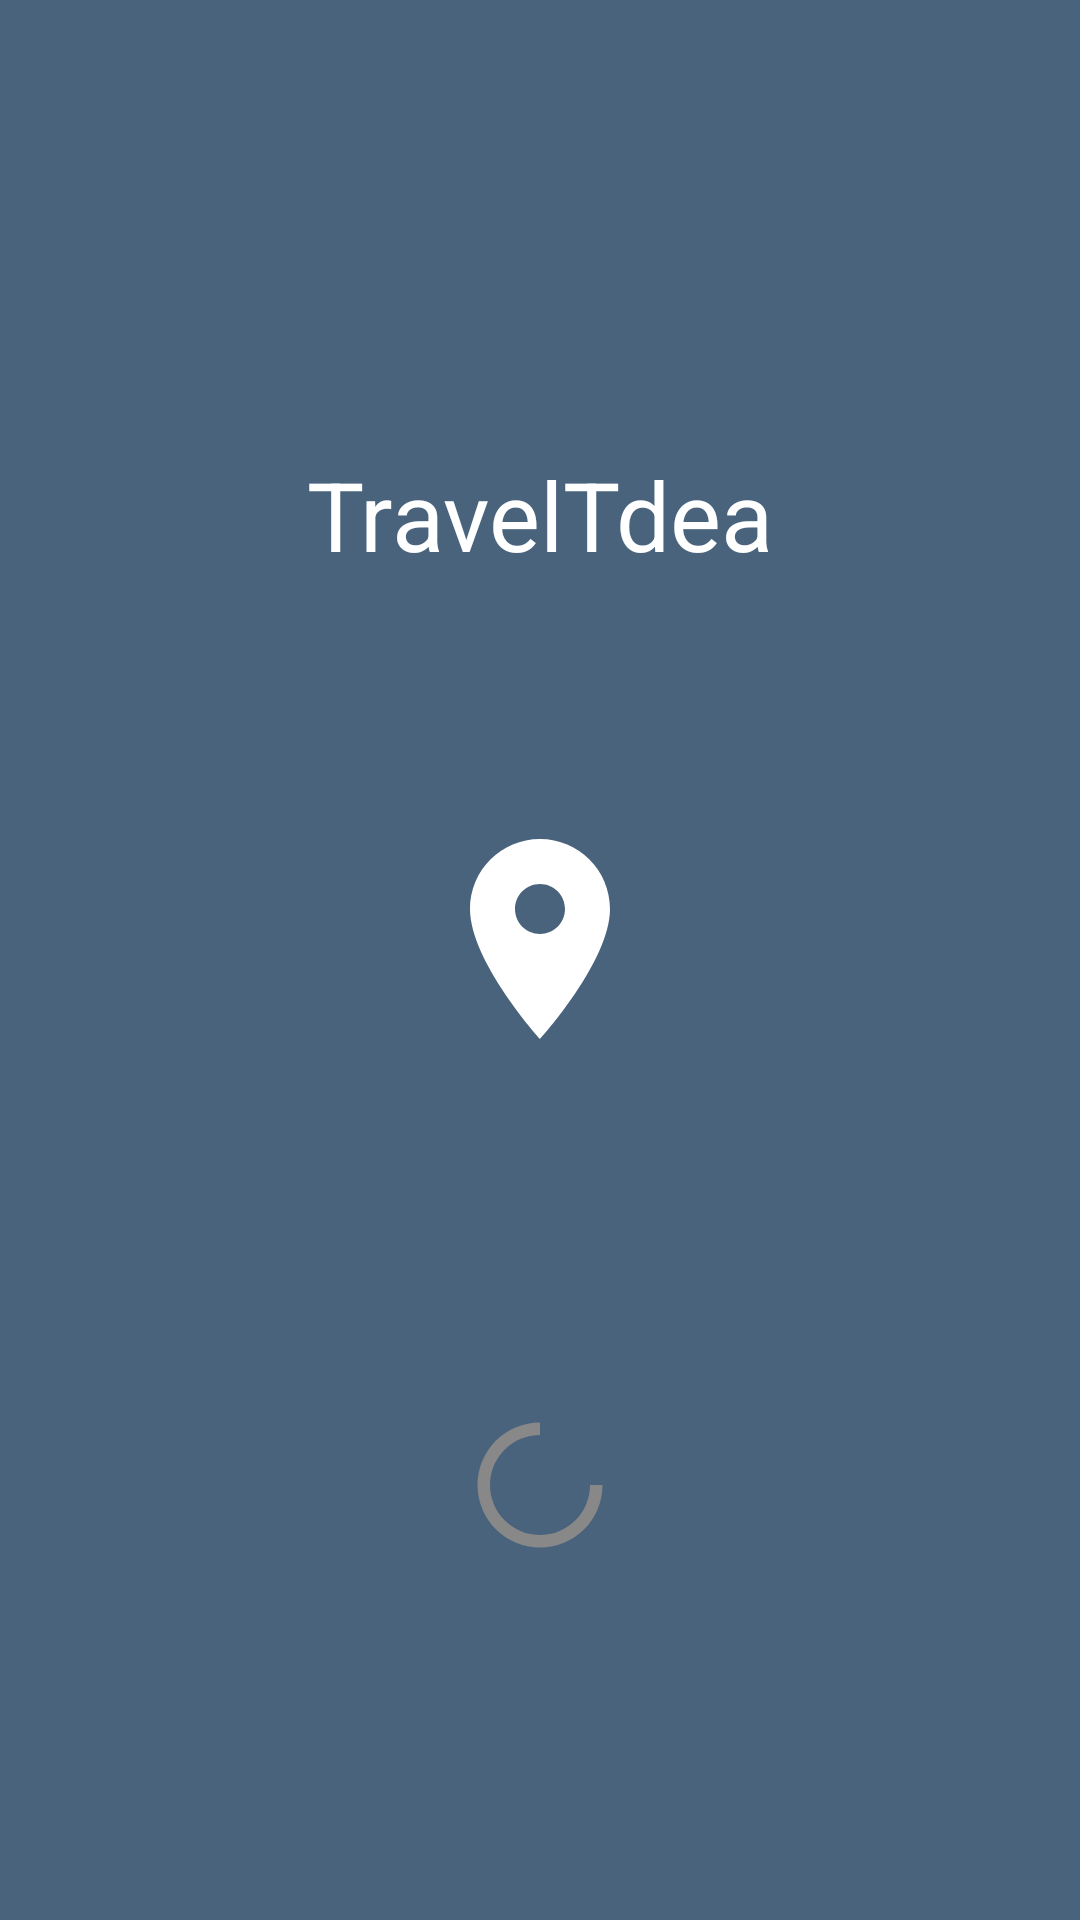

Named icons in this screenshot (1080*1920) and their bounding boxes, (x1, y1, x2, y2):
spinner static: (477, 1422, 603, 1548)
